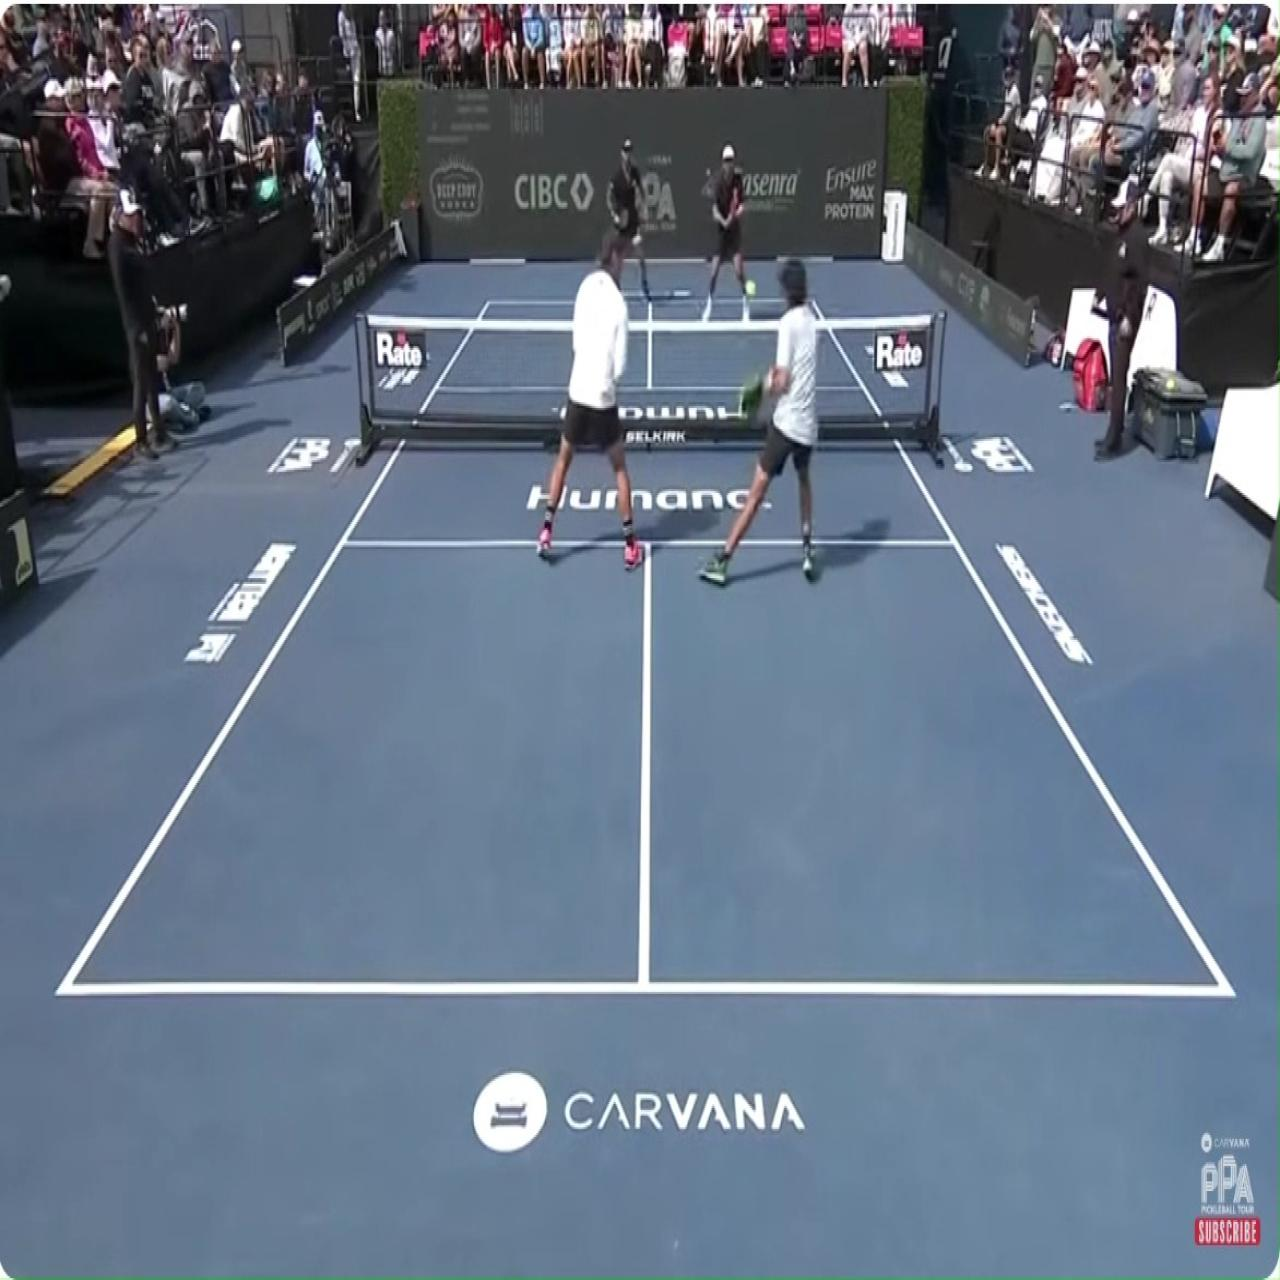pickleball: (744, 279, 756, 297)
